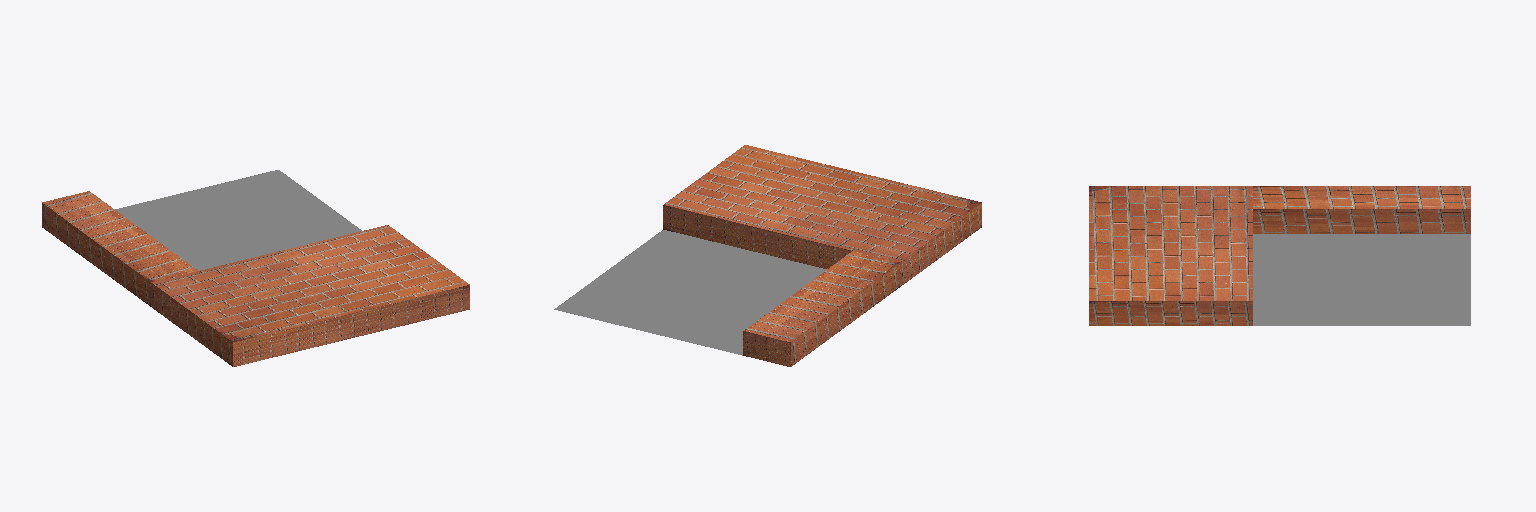
3 views of the same model, side by side, from view 1: azimuth 30°, elevation 25°; view 2: azimuth 150°, elevation 25°; view 3: azimuth 270°, elevation 25° (orthographic).
Visible parts, largest first — view 1: cube; view 2: cube; view 3: cube.
Part boxes in pixels (left/top/right/bottom): cube: left=42, top=170, right=469, bottom=366; cube: left=554, top=145, right=981, bottom=366; cube: left=1089, top=186, right=1470, bottom=325.
Bounding box in the file's own units: 10 × 1 × 14.
Materials: 2 (1 with a texture image).